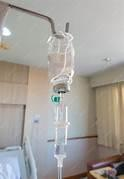Iv_Bottle: (48, 32, 73, 84)
